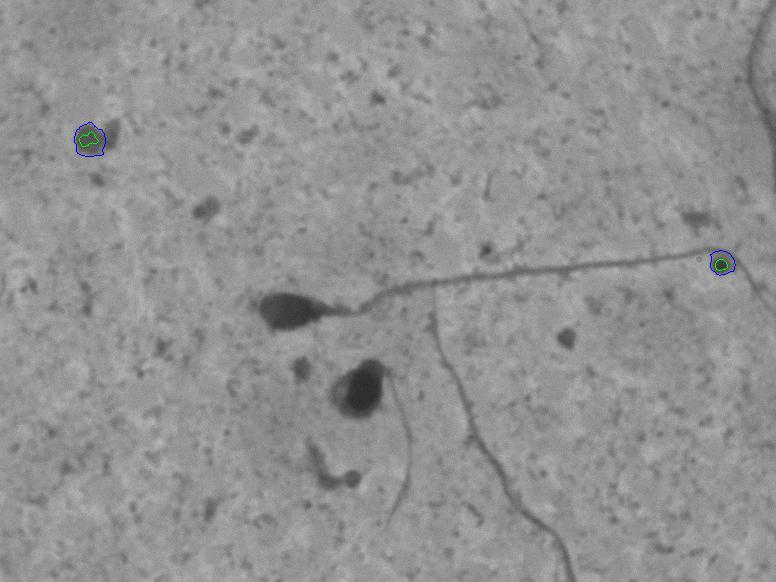Abnormal: (231, 212, 717, 338)
